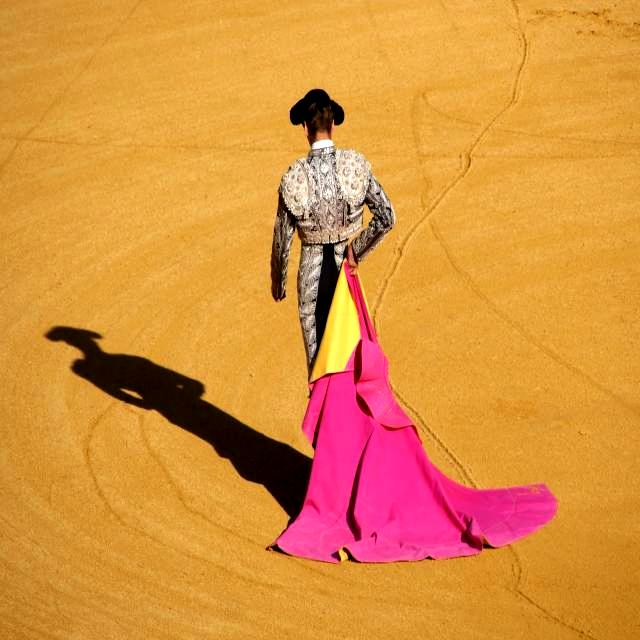no_hard_hat: (290, 89, 344, 126)
person: (271, 89, 396, 301)
